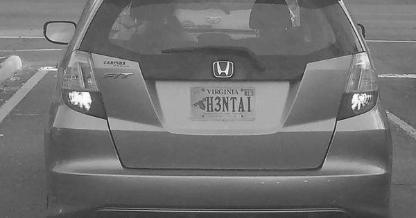license plate: (184, 83, 260, 123)
